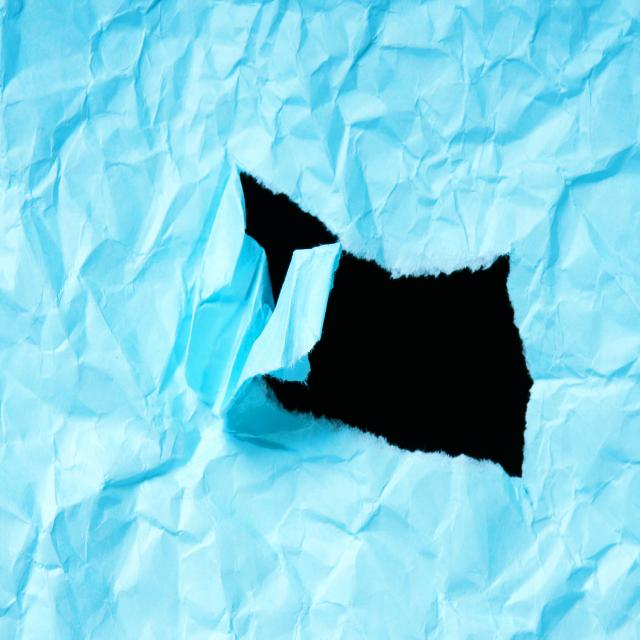paper: (32, 121, 214, 539)
